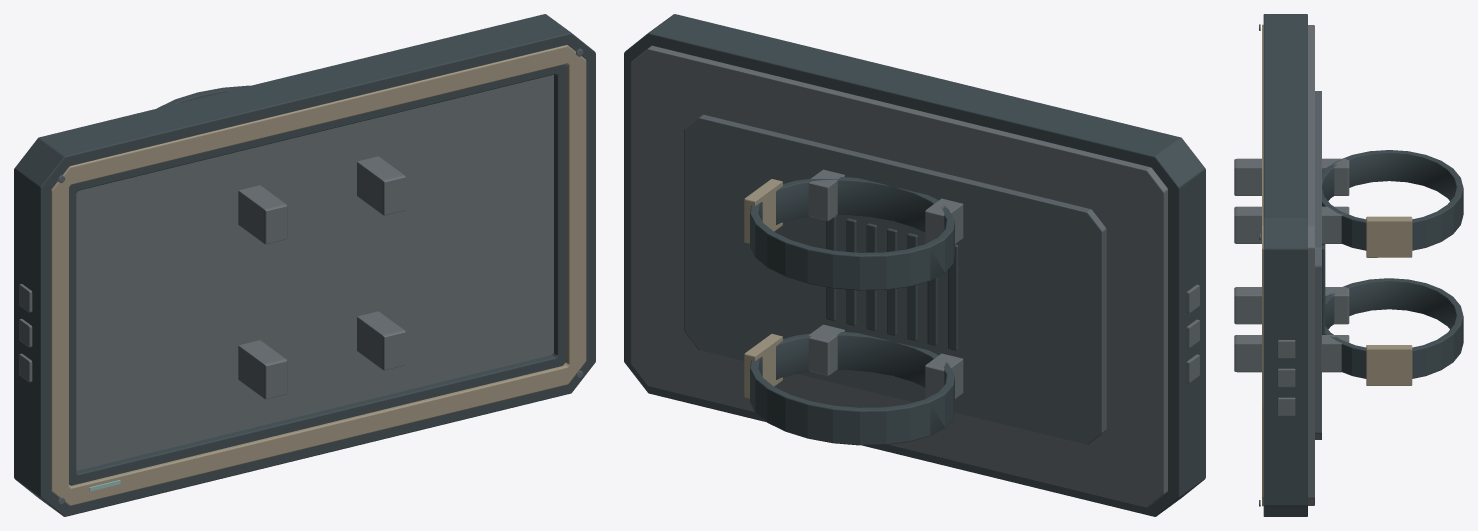
File: camera.glb
The picture shows the model from 3 angles, left to right: view 1: azimuth 30°, elevation 25°; view 2: azimuth 150°, elevation 25°; view 3: azimuth 270°, elevation 25°; orthographic projection. The views are drawn at different scales.
Parts seen in each view (by area): view 1: STWrist_camera_Case, STWrist_camera_Mount; view 2: STWrist_camera_Case, STWrist_camera_Mount; view 3: STWrist_camera_Case, STWrist_camera_Mount.
Boxes of the visible parts, x1,y1,x2,y2 form: STWrist_camera_Case: [14, 14, 595, 516]; STWrist_camera_Mount: [157, 85, 405, 399]; STWrist_camera_Case: [624, 14, 1205, 516]; STWrist_camera_Mount: [744, 169, 963, 445]; STWrist_camera_Case: [1259, 14, 1325, 516]; STWrist_camera_Mount: [1234, 150, 1463, 385].
Size of the model in its own units: 0.303 by 0.1863 by 0.1295.
